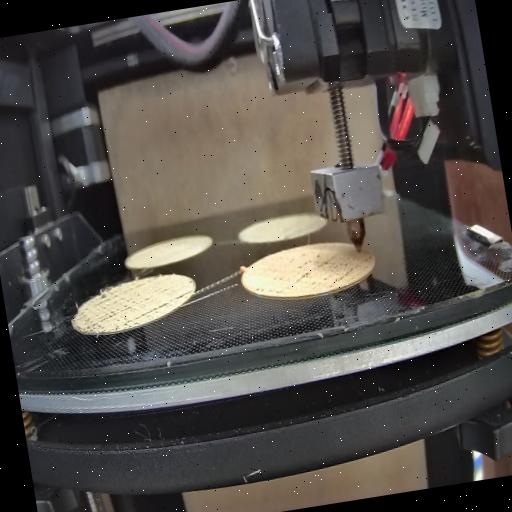under_extrusion: (71, 278, 175, 336), (290, 246, 360, 295), (250, 274, 280, 302), (174, 286, 197, 302)
